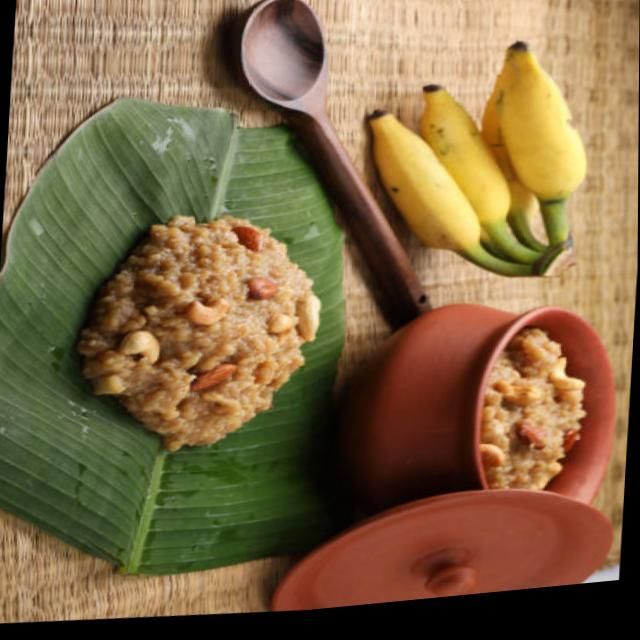BANANA: (365, 43, 588, 277)
PONGAL: (78, 216, 314, 443), (481, 327, 585, 489)
